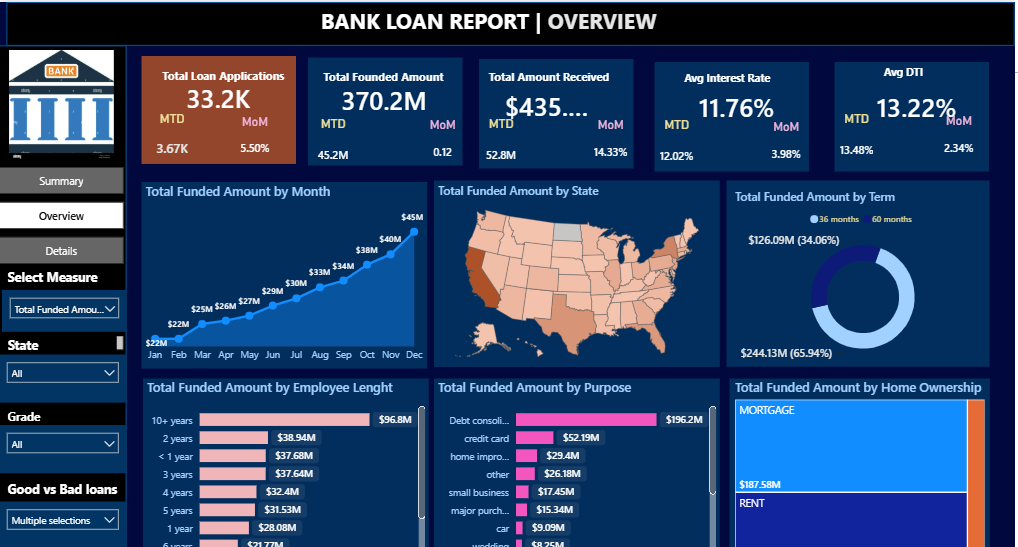

Layout of this report page (visuals, bound fields, positions):
{"tool":"powerbi","page":{"name":"Overview","canvas":[1280,720],"ordinal":1},"visuals":[{"type":"shape","box":[0,54.8,160.6,665.2],"z":0},{"type":"shape","box":[179.8,68,194.6,136.1],"z":0,"group":"g12"},{"type":"cardVisual","fields":{"Data":["bank_loan_data.Total Funded Amount"]},"box":[395.8,69.9,181.9,104.1],"z":0,"group":"g14"},{"type":"cardVisual","fields":{"Data":["bank_loan_data.Total Loan Applications"]},"box":[181,70.1,190.8,99],"z":0,"group":"g11"},{"type":"shape","box":[825.8,75.6,194.6,138],"z":0,"group":"g2"},{"type":"shape","box":[1052.6,75.6,194.6,138],"z":0,"group":"g1"},{"type":"textbox","box":[1052.1,73.7,173.5,70.2],"z":1000,"group":"g16"},{"type":"textbox","box":[186.9,78,190.8,66],"z":1000,"group":"g9"},{"type":"textbox","box":[605.5,79,176.5,70],"z":1000,"group":"g13"},{"type":"textbox","box":[390.5,79.6,186.6,70.2],"z":1000,"group":"g7"},{"type":"textbox","box":[823.3,81.3,186.6,70.2],"z":1000,"group":"g17"},{"type":"cardVisual","title":"MTD","fields":{"Data":["bank_loan_data.MTD dti"]},"box":[1029.9,137.4,101.1,81.3],"z":1000,"group":"g3"},{"type":"cardVisual","title":"MTD","fields":{"Data":["bank_loan_data.MTD Loan Applications"]},"box":[162.5,137.9,111.1,76.4],"z":1000,"group":"g8"},{"type":"cardVisual","title":"MTD","fields":{"Data":["bank_loan_data.MTD Amount Received"]},"box":[578.3,143.1,108.7,81.3],"z":1000,"group":"g4"},{"type":"cardVisual","title":"MTD","fields":{"Data":["bank_loan_data.MTD Founded Ammount"]},"box":[366.6,143.3,108.7,81.3],"z":1000,"group":"g5"},{"type":"cardVisual","title":"MTD","fields":{"Data":["bank_loan_data.MTD Int Rate"]},"box":[799.4,145,108.7,81.3],"z":1000,"group":"g6"},{"type":"shape","box":[179.7,225.9,360,235],"z":1000},{"type":"textbox","box":[4.8,330.8,186.1,31.8],"z":1000,"group":"g24"},{"type":"textbox","box":[6.4,415.1,155.9,28.6],"z":1000,"group":"g22"},{"type":"textbox","box":[4.8,505.8,155.6,35.9],"z":1000,"group":"g21"},{"type":"textbox","box":[9.5,563.1,181,70.2],"z":1000,"group":"g20"},{"type":"textbox","box":[4.8,598.1,157.2,35.1],"z":1000,"group":"g23"},{"type":"group","id":"g1","title":"Group 10","box":[1052.6,75.6,194.6,138],"z":2000},{"type":"cardVisual","title":"MoM","fields":{"Data":["bank_loan_data.MoM dti"]},"box":[1139.3,139.7,139.5,71.1],"z":2000,"group":"g3"},{"type":"cardVisual","title":"MoM","fields":{"Data":["bank_loan_data.MoM loan Applications"]},"box":[244,141.3,157.4,67.8],"z":2000,"group":"g11"},{"type":"cardVisual","title":"MoM","fields":{"Data":["bank_loan_data.MoM Amount Received"]},"box":[696,145.4,150.1,71.1],"z":2000,"group":"g4"},{"type":"cardVisual","title":"MoM","fields":{"Data":["bank_loan_data.MoM Total Founded Amount"]},"box":[484.3,145.6,150.1,71.1],"z":2000,"group":"g5"},{"type":"cardVisual","title":"MoM","fields":{"Data":["bank_loan_data.MoM Int Rate"]},"box":[917.1,147.3,150.1,71.1],"z":2000,"group":"g6"},{"type":"group","id":"g2","title":"Group 10","box":[825.8,75.6,194.6,138],"z":3000},{"type":"group","id":"g3","title":"Group 6","box":[1029.9,137.4,248.9,81.3],"z":3001,"group":"g16"},{"type":"group","id":"g4","title":"Group 6","box":[578.3,143.1,267.8,81.3],"z":3001,"group":"g13"},{"type":"group","id":"g5","title":"Group 6","box":[366.6,143.3,267.8,81.3],"z":3001,"group":"g7"},{"type":"group","id":"g6","title":"Group 6","box":[799.4,145,267.8,81.3],"z":3001,"group":"g17"},{"type":"group","id":"g7","title":"Group 7","box":[366.6,79.6,267.8,145],"z":3002,"group":"g14"},{"type":"shape","box":[604.7,71.8,194.6,138],"z":4000},{"type":"cardVisual","fields":{"Data":["bank_loan_data.Total Amount Received"]},"box":[608.5,77.5,181.4,103.9],"z":4000,"group":"g19"},{"type":"shape","box":[9.4,0,1269.9,55],"z":5000},{"type":"group","id":"g8","title":"Group 1","box":[162.5,70.1,238.9,144.2],"z":5003,"group":"g9"},{"type":"group","id":"g9","title":"Group 3","box":[162.5,70.1,238.3,144],"z":5004,"group":"g12"},{"type":"group","id":"g10","title":"Group 2","box":[181,70.1,220.4,139],"z":5004,"group":"g8"},{"type":"group","id":"g11","title":"Group 4","box":[181,70.1,220.4,139],"z":5005,"group":"g10"},{"type":"shape","box":[389.3,69.9,194.6,136.1],"z":6000},{"type":"textbox","box":[400.6,0,629.3,94.5],"z":7000},{"type":"group","id":"g12","title":"Group 5","box":[162.5,68,238.1,145.5],"z":8000},{"type":"group","id":"g13","title":"Group 7","box":[578.3,79,267.8,145.4],"z":8000,"group":"g19"},{"type":"group","id":"g14","title":"Group 8","box":[366.6,69.9,266.5,155],"z":9000},{"type":"group","id":"g15","title":"Group 7","box":[1029.9,73.7,249.5,145.5],"z":10000},{"type":"cardVisual","fields":{"Data":["bank_loan_data.Average Int Rate"]},"box":[839.8,84.8,181.4,90.7],"z":10000,"group":"g2"},{"type":"cardVisual","fields":{"Data":["bank_loan_data.AVG DTI"]},"box":[1066.6,84.8,181.4,90.7],"z":10000,"group":"g1"},{"type":"group","id":"g16","title":"Group 9","box":[1029.9,73.7,248.9,145],"z":10001,"group":"g15"},{"type":"group","id":"g17","title":"Group 9","box":[799.4,81.3,267.8,145],"z":10001,"group":"g18"},{"type":"group","id":"g18","title":"Group 7","box":[799.4,81.3,268.3,145.5],"z":11000},{"type":"group","id":"g19","title":"Group 11","box":[578.3,77.5,267.8,146.9],"z":12000},{"type":"slicer","fields":{"Values":["bank_loan_data.address_state"]},"box":[0,443.8,160.7,60.4],"z":13000},{"type":"group","id":"g20","title":"Group 8","box":[9.5,563.1,181.3,70],"z":14000},{"type":"group","id":"g21","title":"Group 8","box":[4.8,505.8,155.9,35],"z":15000},{"type":"slicer","fields":{"Values":["bank_loan_data.grade"]},"box":[0,532.9,160.7,60.4],"z":16000},{"type":"group","id":"g22","title":"Group 8","box":[6.4,415.1,155.9,28.6],"z":17000},{"type":"group","id":"g23","title":"Group 8","box":[4.8,598.1,157.5,35],"z":18000},{"type":"slicer","fields":{"Values":["bank_loan_data.Good vs Bad Loans"]},"box":[0,629.9,160.7,60.4],"z":19000},{"type":"areaChart","fields":{"Y":["bank_loan_data.Total Funded Amount"],"Category":["Date Table.Month"]},"box":[180,227,360,235.9],"z":20000},{"type":"slicer","fields":{"Values":["Select Measure.Select Measure"]},"box":[3.2,362.7,157.5,52.5],"z":21000},{"type":"group","id":"g24","title":"Group 8","box":[4.8,330.8,186.1,31.8],"z":22000},{"type":"shape","box":[548.9,225.2,360,235],"z":23000},{"type":"shape","box":[916.8,224.3,331.6,235],"z":24000},{"type":"shapeMap","fields":{"Value":["bank_loan_data.Total Funded Amount"],"Category":["bank_loan_data.address_state"]},"box":[548.9,226.1,360,235],"z":25000},{"type":"donutChart","fields":{"Y":["bank_loan_data.Total Funded Amount"],"Category":["bank_loan_data.term"]},"box":[923.1,234.1,331.6,227],"z":26000},{"type":"shape","box":[180.9,474.4,360,235],"z":27000},{"type":"shape","box":[548.9,474.4,360,235],"z":28000},{"type":"shape","box":[920.4,474.4,328.1,235],"z":29000},{"type":"barChart","fields":{"Y":["bank_loan_data.Total Funded Amount"],"Category":["bank_loan_data.emp_length"]},"box":[180.9,474.4,360,235],"z":30000},{"type":"barChart","fields":{"Y":["bank_loan_data.Total Funded Amount"],"Category":["bank_loan_data.purpose"]},"box":[548.9,475.3,360,235],"z":31000},{"type":"treemap","fields":{"Values":["bank_loan_data.Total Funded Amount"],"Group":["bank_loan_data.home_ownership"]},"box":[923.1,474.4,324.5,245.6],"z":32000},{"type":"pageNavigator","box":[0,208.4,157.5,124.1],"z":32001},{"type":"image","box":[0,60.4,157.5,138.4],"z":32002}]}

Visuals, with their boxes on the page's 1280x720 design canvas (x1, y1, x2, y2). These are canvas units, not pixel positions in the 1018x547 screenshot, which may show the page scaled, cropped or inside an application window:
shape: select_region(0, 55, 161, 720)
shape: select_region(180, 68, 374, 204)
cardVisual - bank_loan_data.Total Funded Amount: select_region(396, 70, 578, 174)
cardVisual - bank_loan_data.Total Loan Applications: select_region(181, 70, 372, 169)
shape: select_region(826, 76, 1020, 214)
shape: select_region(1053, 76, 1247, 214)
textbox: select_region(1052, 74, 1226, 144)
textbox: select_region(187, 78, 378, 144)
textbox: select_region(606, 79, 782, 149)
textbox: select_region(390, 80, 577, 150)
textbox: select_region(823, 81, 1010, 152)
"MTD" cardVisual: select_region(1030, 137, 1131, 219)
"MTD" cardVisual: select_region(162, 138, 274, 214)
"MTD" cardVisual: select_region(578, 143, 687, 224)
"MTD" cardVisual: select_region(367, 143, 475, 225)
"MTD" cardVisual: select_region(799, 145, 908, 226)
shape: select_region(180, 226, 540, 461)
textbox: select_region(5, 331, 191, 363)
textbox: select_region(6, 415, 162, 444)
textbox: select_region(5, 506, 160, 542)
textbox: select_region(10, 563, 190, 633)
textbox: select_region(5, 598, 162, 633)
"Group 10" group: select_region(1053, 76, 1247, 214)
"MoM" cardVisual: select_region(1139, 140, 1279, 211)
"MoM" cardVisual: select_region(244, 141, 401, 209)
"MoM" cardVisual: select_region(696, 145, 846, 216)
"MoM" cardVisual: select_region(484, 146, 634, 217)
"MoM" cardVisual: select_region(917, 147, 1067, 218)
"Group 10" group: select_region(826, 76, 1020, 214)
"Group 6" group: select_region(1030, 137, 1279, 219)
"Group 6" group: select_region(578, 143, 846, 224)
"Group 6" group: select_region(367, 143, 634, 225)
"Group 6" group: select_region(799, 145, 1067, 226)
"Group 7" group: select_region(367, 80, 634, 225)
shape: select_region(605, 72, 799, 210)
cardVisual - bank_loan_data.Total Amount Received: select_region(608, 78, 790, 181)
shape: select_region(9, 0, 1279, 55)
"Group 1" group: select_region(162, 70, 401, 214)
"Group 3" group: select_region(162, 70, 401, 214)
"Group 2" group: select_region(181, 70, 401, 209)
"Group 4" group: select_region(181, 70, 401, 209)
shape: select_region(389, 70, 584, 206)
textbox: select_region(401, 0, 1030, 94)
"Group 5" group: select_region(162, 68, 401, 214)
"Group 7" group: select_region(578, 79, 846, 224)
"Group 8" group: select_region(367, 70, 633, 225)
"Group 7" group: select_region(1030, 74, 1279, 219)
cardVisual - bank_loan_data.Average Int Rate: select_region(840, 85, 1021, 176)
cardVisual - bank_loan_data.AVG DTI: select_region(1067, 85, 1248, 176)
"Group 9" group: select_region(1030, 74, 1279, 219)
"Group 9" group: select_region(799, 81, 1067, 226)
"Group 7" group: select_region(799, 81, 1068, 227)
"Group 11" group: select_region(578, 78, 846, 224)
slicer - bank_loan_data.address_state: select_region(0, 444, 161, 504)
"Group 8" group: select_region(10, 563, 191, 633)
"Group 8" group: select_region(5, 506, 161, 541)
slicer - bank_loan_data.grade: select_region(0, 533, 161, 593)
"Group 8" group: select_region(6, 415, 162, 444)
"Group 8" group: select_region(5, 598, 162, 633)
slicer - bank_loan_data.Good vs Bad Loans: select_region(0, 630, 161, 690)
areaChart - bank_loan_data.Total Funded Amount x Date Table.Month: select_region(180, 227, 540, 463)
slicer - Select Measure.Select Measure: select_region(3, 363, 161, 415)
"Group 8" group: select_region(5, 331, 191, 363)
shape: select_region(549, 225, 909, 460)
shape: select_region(917, 224, 1248, 459)
shapeMap - bank_loan_data.Total Funded Amount x bank_loan_data.address_state: select_region(549, 226, 909, 461)
donutChart - bank_loan_data.Total Funded Amount x bank_loan_data.term: select_region(923, 234, 1255, 461)
shape: select_region(181, 474, 541, 709)
shape: select_region(549, 474, 909, 709)
shape: select_region(920, 474, 1248, 709)
barChart - bank_loan_data.Total Funded Amount x bank_loan_data.emp_length: select_region(181, 474, 541, 709)
barChart - bank_loan_data.Total Funded Amount x bank_loan_data.purpose: select_region(549, 475, 909, 710)
treemap - bank_loan_data.Total Funded Amount x bank_loan_data.home_ownership: select_region(923, 474, 1248, 720)
pageNavigator: select_region(0, 208, 158, 332)
image: select_region(0, 60, 158, 199)
